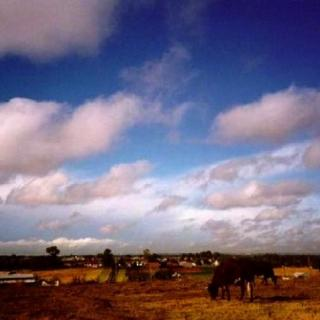Stratus: (0, 1, 320, 254)
